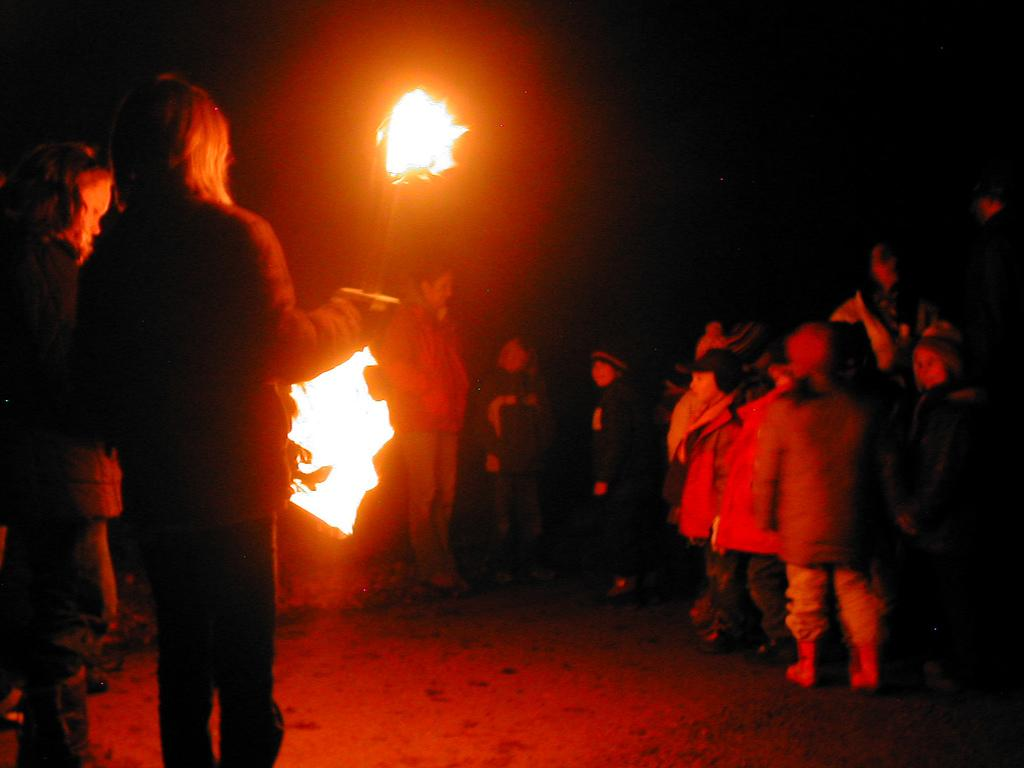fire: (304, 384, 370, 456), (392, 104, 452, 168)
